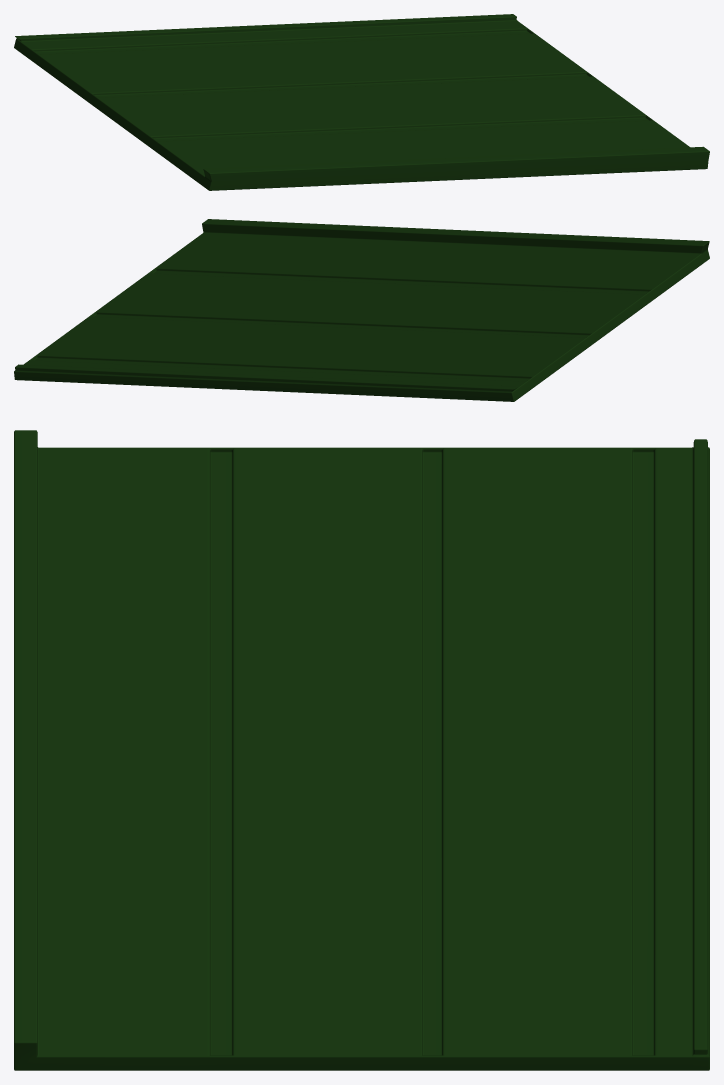
File: FM_H_SH_02_Roof_03_001.fbx
The picture shows the model from 3 angles, top to bottom: view 1: azimuth 30°, elevation 25°; view 2: azimuth 150°, elevation 25°; view 3: azimuth 270°, elevation 25°; orthographic projection. The views are drawn at different scales.
Visible parts, largest first — view 1: FM_H_Small_house_02_Roof_03_001; view 2: FM_H_Small_house_02_Roof_03_001; view 3: FM_H_Small_house_02_Roof_03_001.
Part boxes in pixels (<box>): FM_H_Small_house_02_Roof_03_001: <box>14,14,709,190</box>; FM_H_Small_house_02_Roof_03_001: <box>14,219,709,401</box>; FM_H_Small_house_02_Roof_03_001: <box>14,430,709,1070</box>.
Size of the model in its own units: 7.51 by 1.68 by 5.08.
